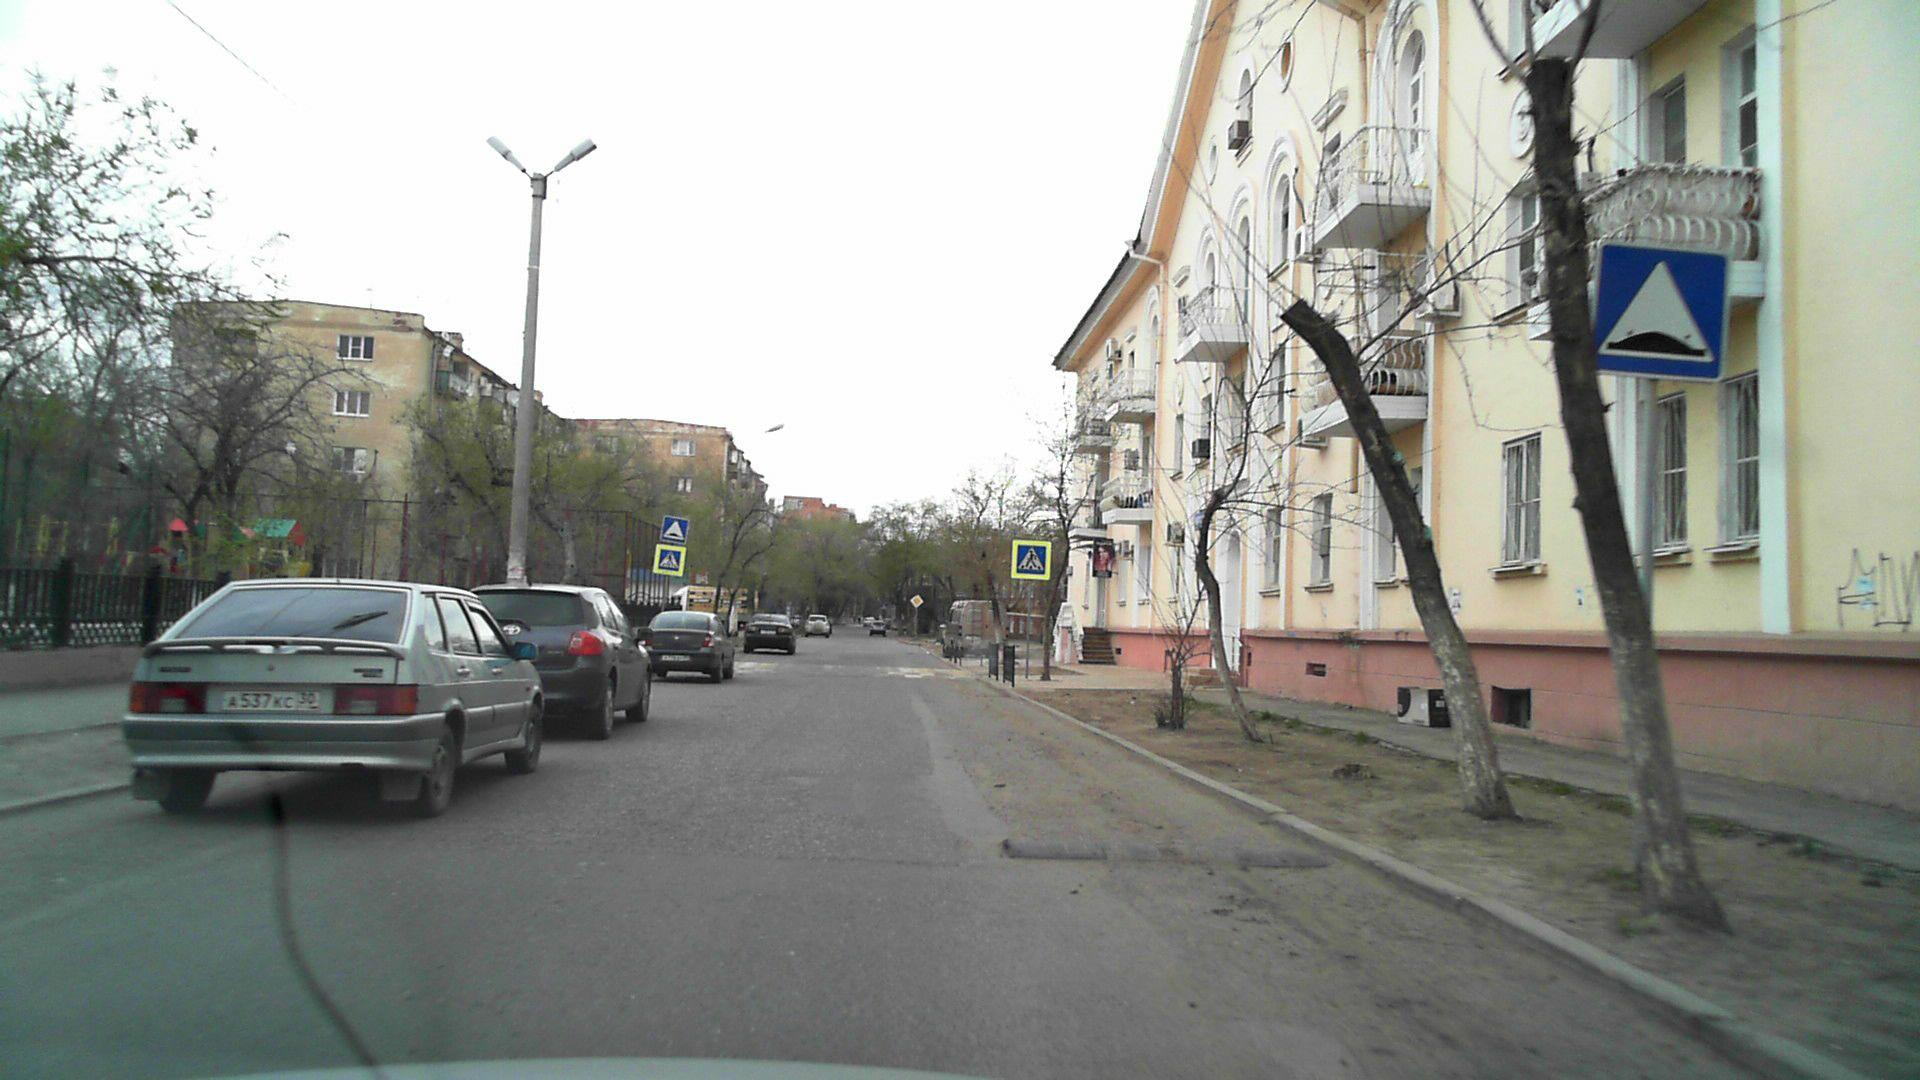2_1: (909, 591, 924, 608)
5_19_1: (1013, 541, 1050, 576)
5_19_2: (655, 546, 683, 571)
5_20: (1590, 245, 1724, 382), (659, 514, 688, 545)
